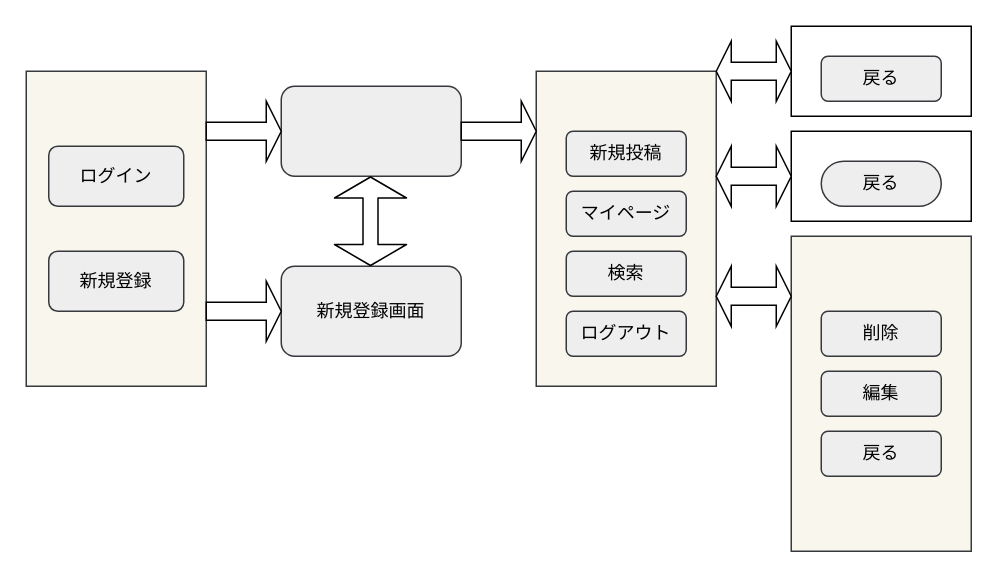
Image size: 998x578. Some labels were removed from this diagram. The box of each missing label's shape, as (x1, y1, x2, y2) in pixels:
トップページ: (25, 70, 206, 386)
マイページ(投稿一覧): (790, 235, 971, 551)
ログイン画面: (280, 85, 461, 176)
一覧画面: (535, 70, 716, 386)
